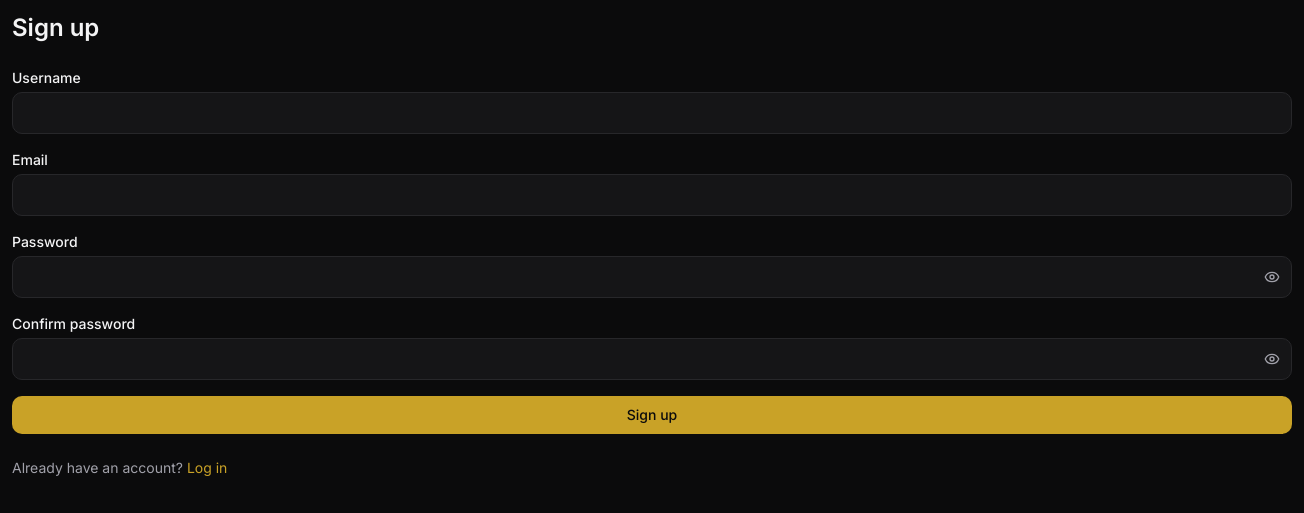
Test case: SignupForm › disables Sign up and shows an inline hint when the passwords don't match
The width and height of the screenshot is (1304, 513).
Type "secret123" into the password field labelled "Password" at (652, 277), box [12,256,1292,298]
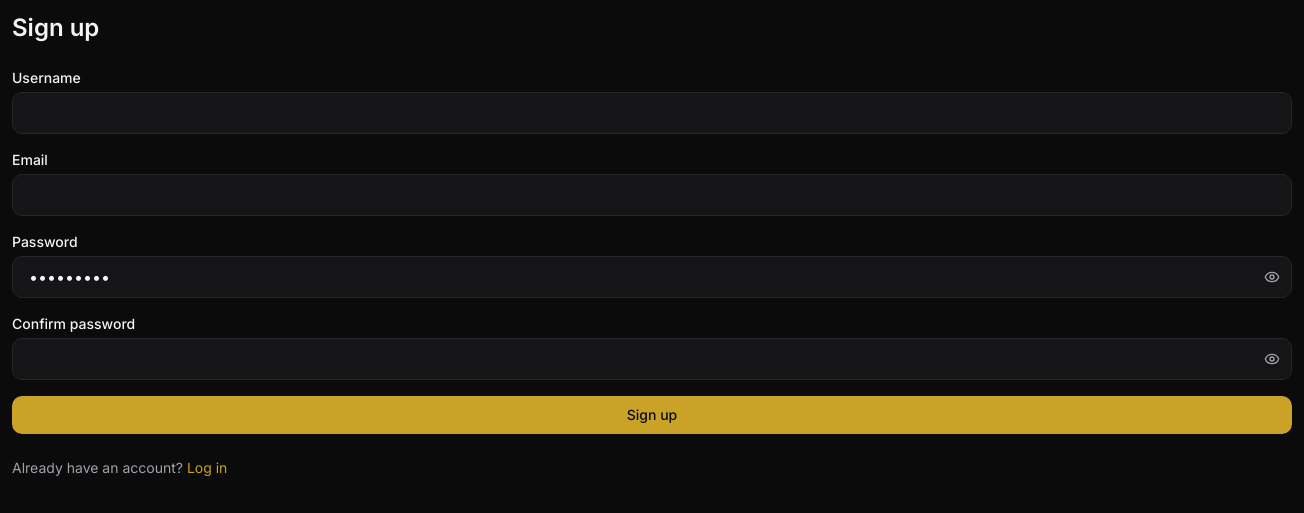
Type "something-else" into the password field labelled "Confirm password" at (652, 359), box [12,338,1292,380]
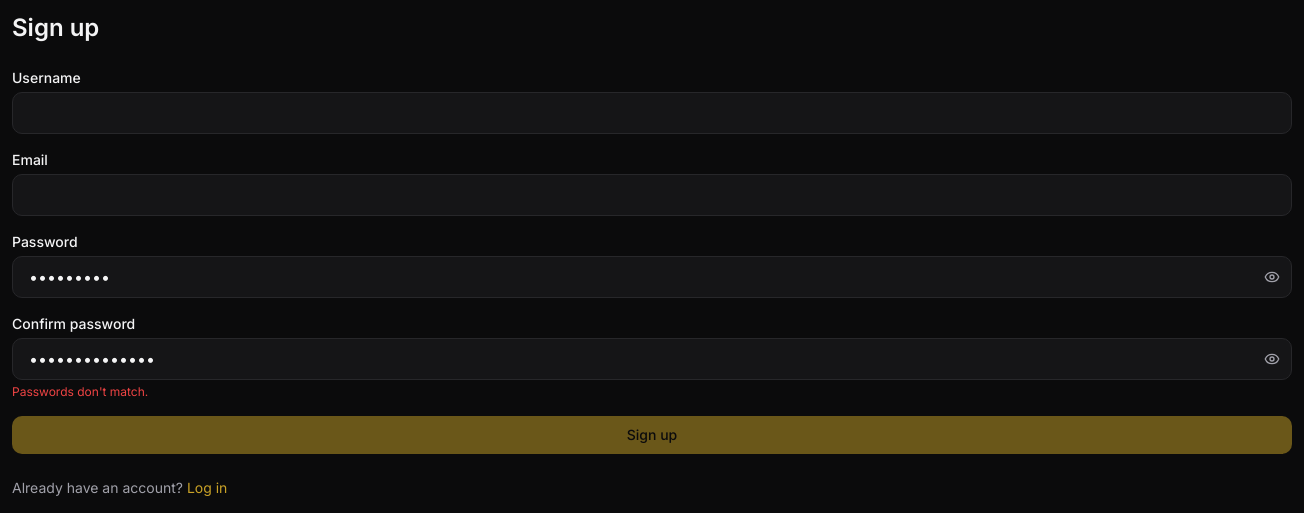
Result: the text "Passwords don't match." is shown at [12,384,148,399]
Result: the button "Sign up" is disabled at [12,416,1292,454]
